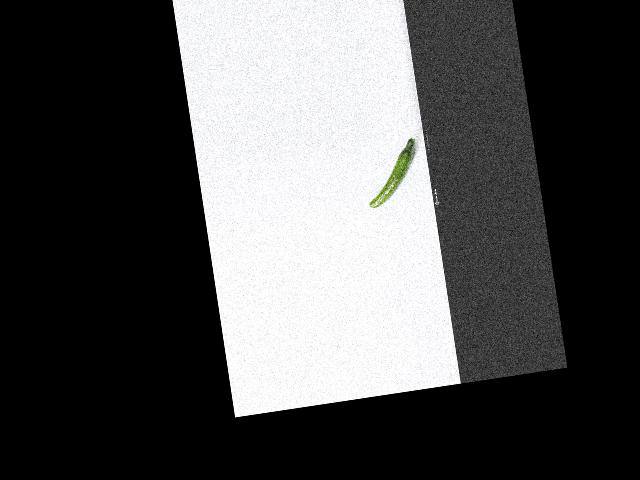cucumber: (360, 136, 423, 208)
